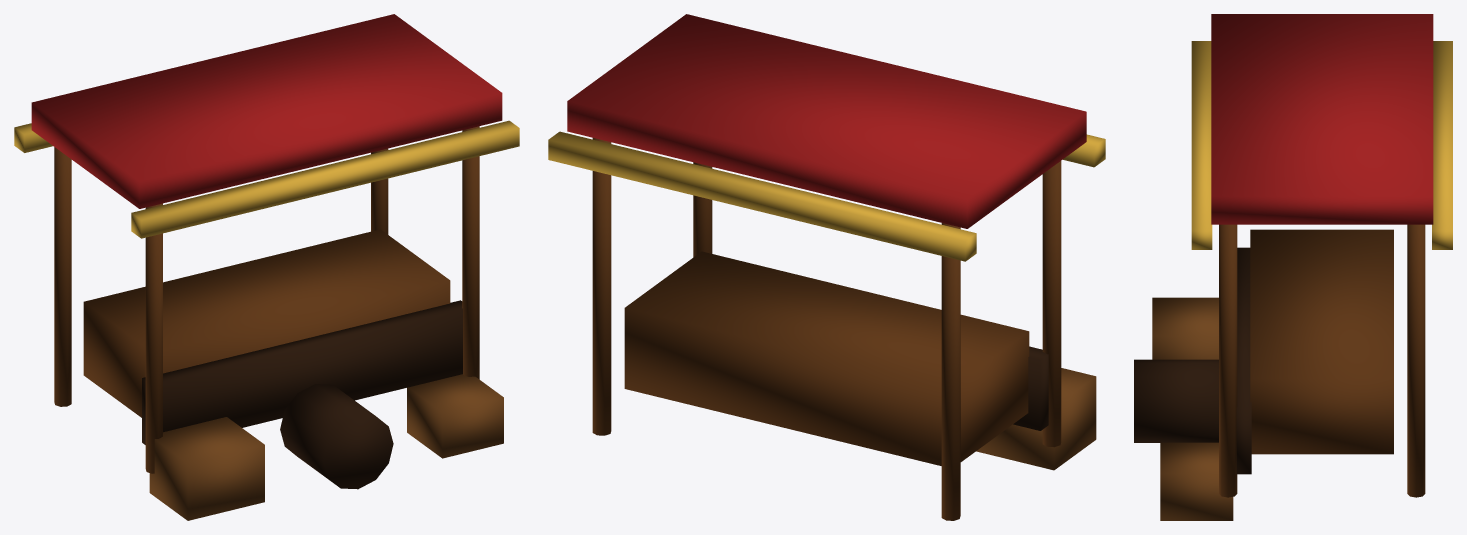
File: vendor_stall.glb
3 views of the same model, side by side, from view 1: azimuth 30°, elevation 25°; view 2: azimuth 150°, elevation 25°; view 3: azimuth 270°, elevation 25° (orthographic). The views are drawn at different scales.
Visible parts, largest first — view 1: canopy, counter, counter_front, canopy_trim_front, crate_left, barrel, crate_right, post_-0.72_-0.36, post_-0.72_0.36, post_0.72_0.36, post_0.72_-0.36, canopy_trim_back; view 2: canopy, counter, canopy_trim_back, post_0.72_-0.36, post_-0.72_-0.36, post_-0.72_0.36, crate_left, counter_front, post_0.72_0.36, canopy_trim_front; view 3: canopy, counter, barrel, post_0.72_-0.36, post_0.72_0.36, crate_right, canopy_trim_front, crate_left, canopy_trim_back, counter_front.
Part boxes in pixels (x1,y1,x2,y2): canopy: (31,14,502,208); counter: (83,229,450,417); counter_front: (142,300,462,444); canopy_trim_front: (131,120,519,238); crate_left: (149,417,264,520); barrel: (280,384,393,489); crate_right: (407,374,503,458); post_-0.72_-0.36: (54,147,71,406); post_-0.72_0.36: (145,203,162,473); post_0.72_0.36: (462,126,479,379); post_0.72_-0.36: (371,148,388,234); canopy_trim_back: (14,123,52,152); canopy: (567,14,1086,228); counter: (624,251,1029,465); canopy_trim_back: (548,131,976,261); post_0.72_-0.36: (592,138,611,435); post_-0.72_-0.36: (941,223,960,520); post_-0.72_0.36: (1042,161,1061,447); crate_left: (976,368,1096,470); counter_front: (1013,346,1048,430); post_0.72_0.36: (693,162,712,257); canopy_trim_front: (1063,134,1105,167); canopy: (1211,14,1433,224); counter: (1250,229,1393,454); barrel: (1134,359,1218,442); post_0.72_-0.36: (1407,224,1425,497); post_0.72_0.36: (1219,224,1237,497); crate_right: (1160,442,1233,520); canopy_trim_front: (1191,41,1212,249); crate_left: (1152,297,1218,359); canopy_trim_back: (1432,41,1452,249); counter_front: (1236,247,1251,474).
Size of the model in its own units: 1.72 by 1.42 by 1.22.
